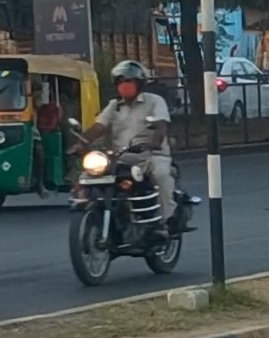BikeWithRider: (59, 54, 204, 289)
Helmet: (106, 56, 150, 102)
